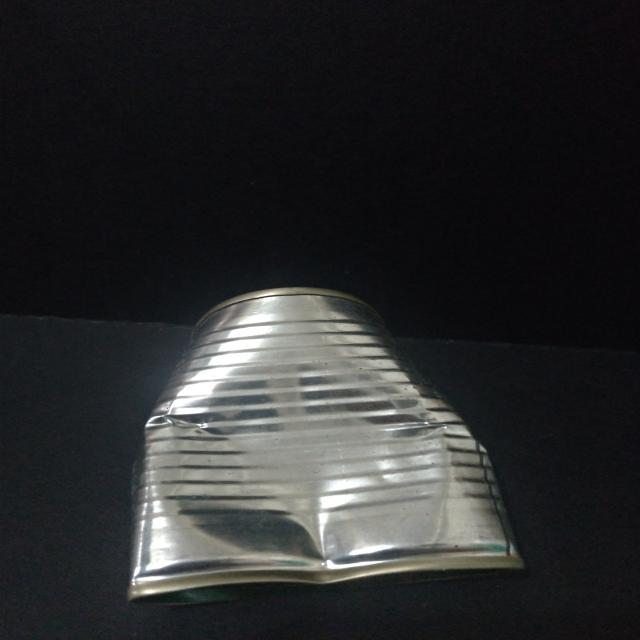metal-can: (127, 285, 530, 613)
